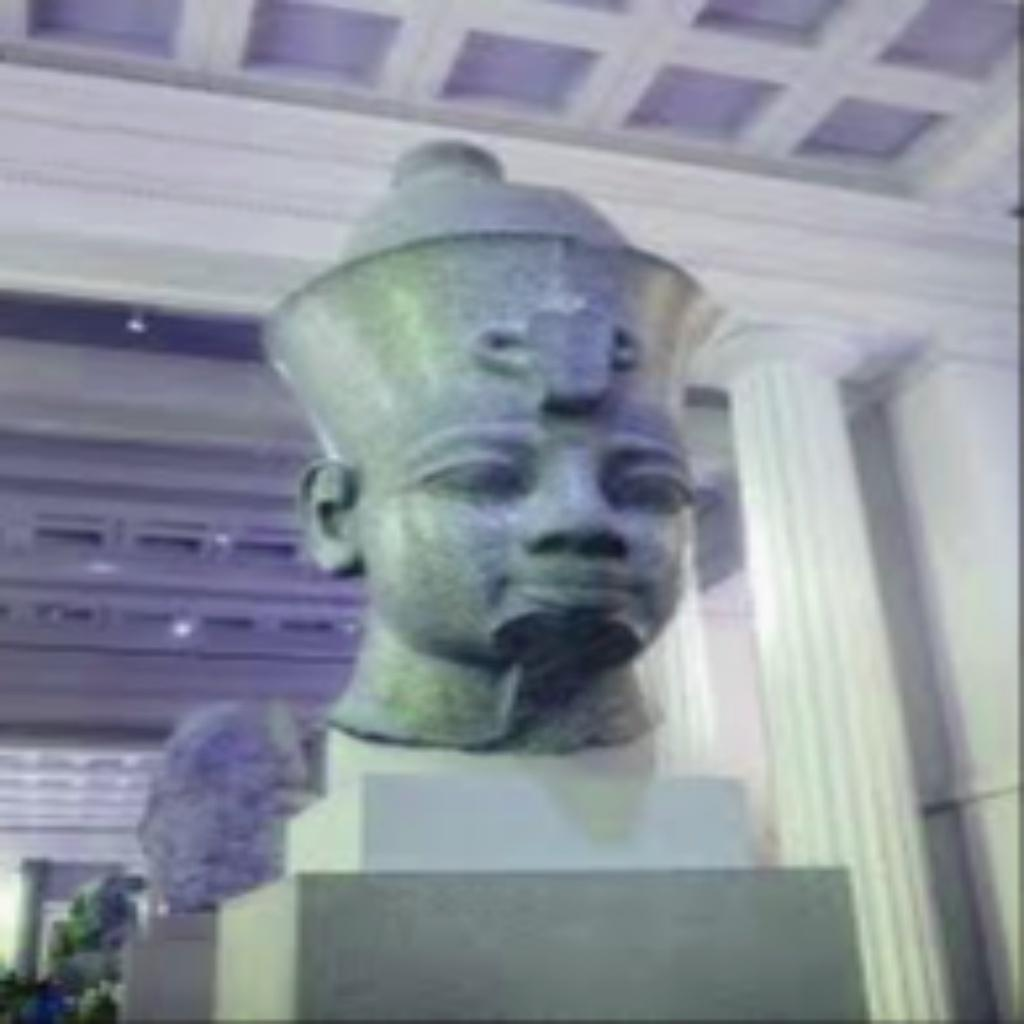Head Statue of Amenhotep iii: (248, 130, 744, 760)
